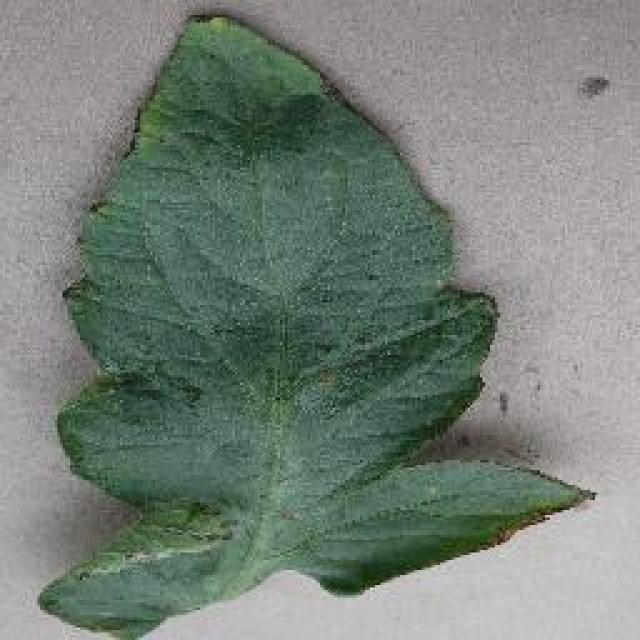Tomato___Bacterial_spot: (31, 6, 601, 638)
